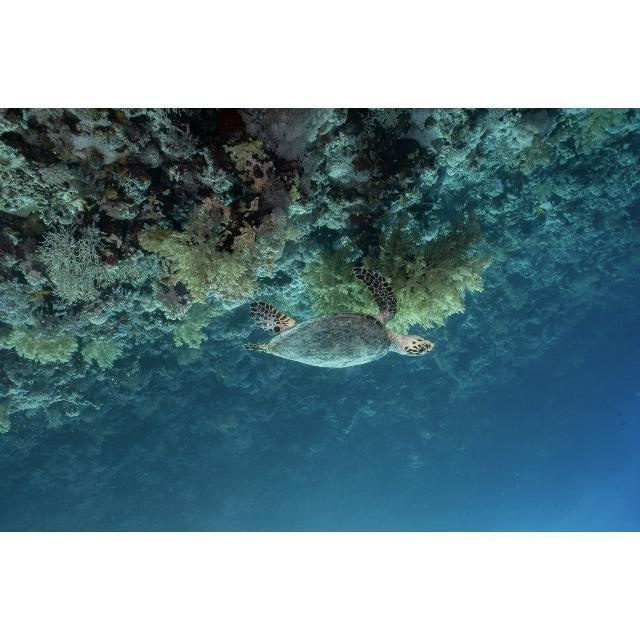penguin: (275, 267, 342, 380)
